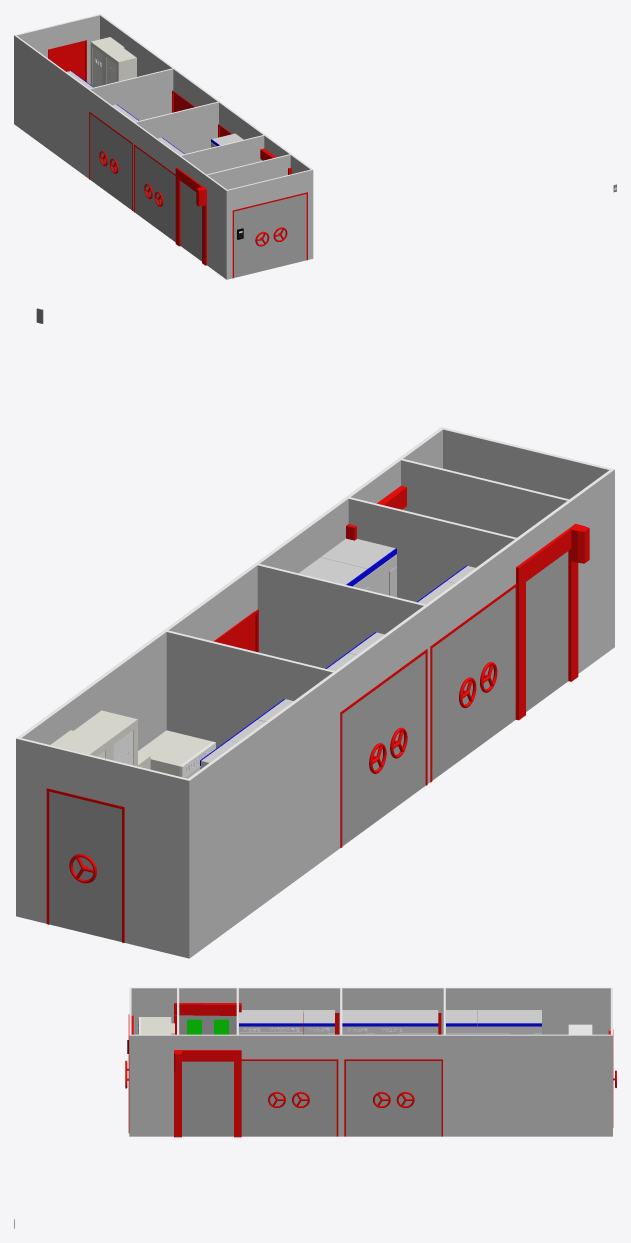
File: NoLod_0.glb
3 views of the same model, one above another, from view 1: azimuth 30°, elevation 25°; view 2: azimuth 150°, elevation 25°; view 3: azimuth 270°, elevation 25° (orthographic). The views are drawn at different scales.
Parts seen in each view (by area): view 1: rtc; view 2: rtc; view 3: rtc.
Boxes of the visible parts, x1=… form: rtc: x1=14, y1=14, x2=616, y2=279; rtc: x1=16, y1=308, x2=614, y2=958; rtc: x1=14, y1=987, x2=616, y2=1228.
Size of the model in its own units: 11.45 by 2.8 by 15.15.
